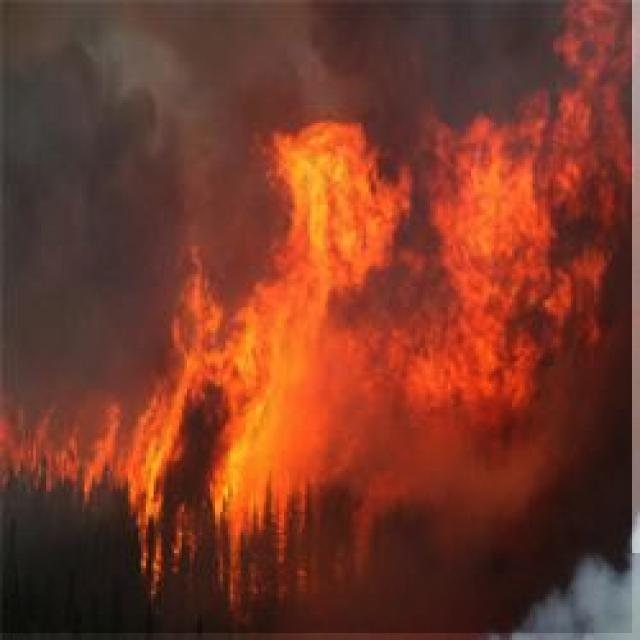Fire: (89, 0, 640, 553)
Smoke: (0, 0, 632, 633)
